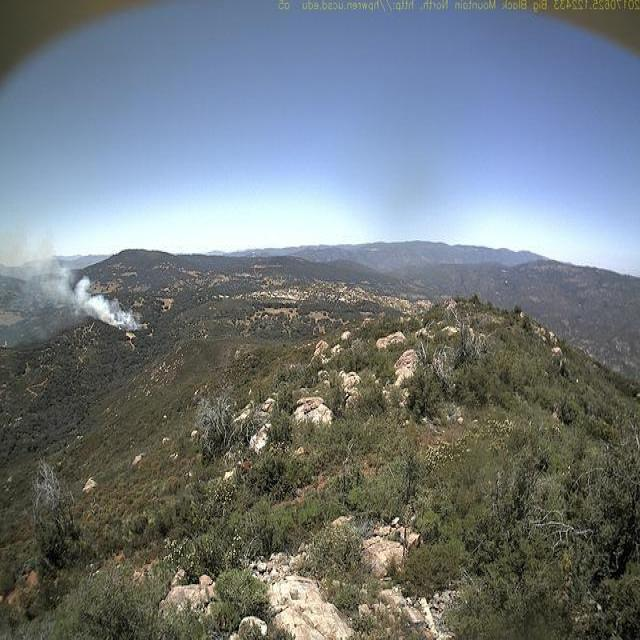Smoke: (4, 219, 148, 341)
